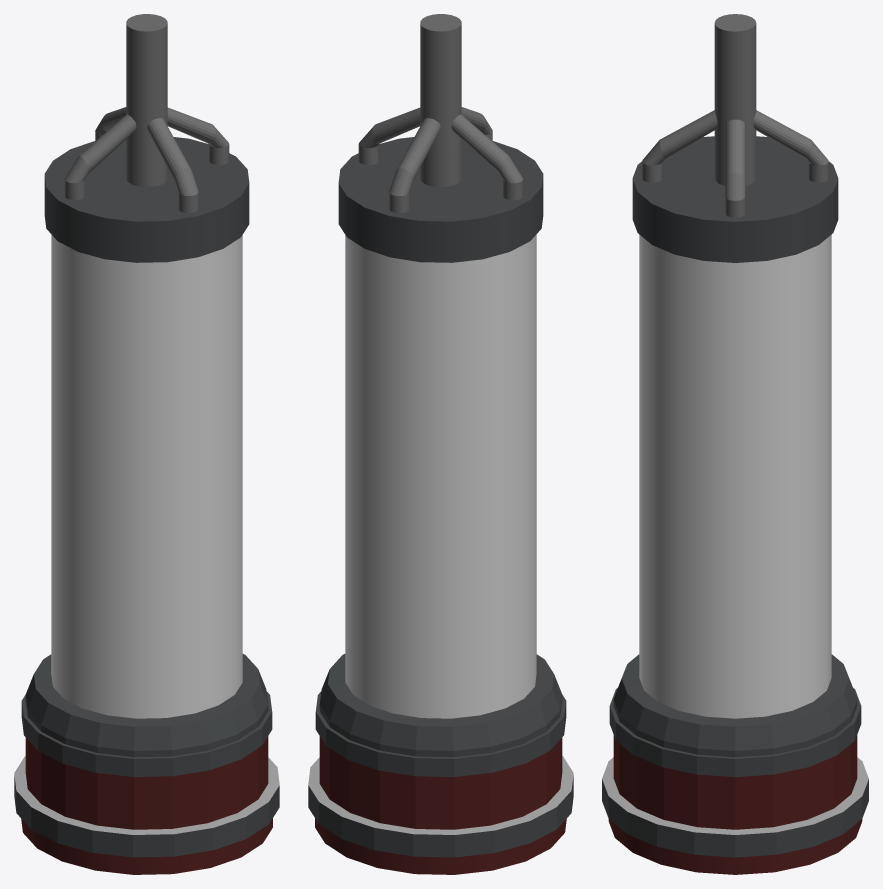
File: Test_Tube_Empty.fbx
3 renders of one model, left to right at view 1: azimuth 30°, elevation 25°; view 2: azimuth 150°, elevation 25°; view 3: azimuth 270°, elevation 25°, orthographic.
Parts seen in each view (by area): view 1: Glass_Tube, Base, Tube_Top, Pipe_Center, Pipe_02, Pipe_01, Pipe_04; view 2: Glass_Tube, Base, Tube_Top, Pipe_Center, Pipe_02, Pipe_03, Pipe_04; view 3: Glass_Tube, Base, Tube_Top, Pipe_Center, Pipe_04, Pipe_01, Pipe_03.
Part boxes in pixels (x1,y1,x2,y2): Glass_Tube: (51, 234, 242, 718); Base: (14, 654, 279, 874); Tube_Top: (44, 137, 249, 262); Pipe_Center: (126, 14, 167, 186); Pipe_02: (64, 114, 136, 200); Pipe_01: (147, 118, 198, 212); Pipe_04: (167, 107, 229, 164); Glass_Tube: (345, 234, 536, 718); Base: (308, 654, 573, 874); Tube_Top: (338, 137, 543, 262); Pipe_Center: (420, 14, 461, 186); Pipe_02: (451, 114, 523, 200); Pipe_03: (389, 118, 440, 212); Pipe_04: (358, 107, 420, 164); Glass_Tube: (639, 235, 831, 718); Base: (602, 654, 868, 874); Tube_Top: (632, 136, 838, 262); Pipe_Center: (714, 14, 756, 185); Pipe_04: (725, 119, 745, 217); Pipe_01: (642, 110, 717, 182); Pipe_03: (753, 110, 828, 182).
Bounding box in the file's own units: 101 × 332 × 101.
